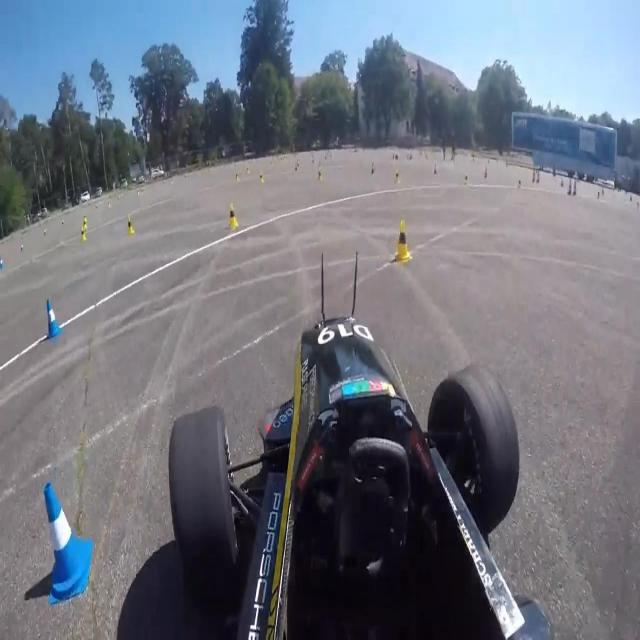blue_cone: (44, 483, 94, 605), (46, 298, 62, 340)
yellow_cone: (395, 220, 412, 262), (228, 203, 239, 230)
